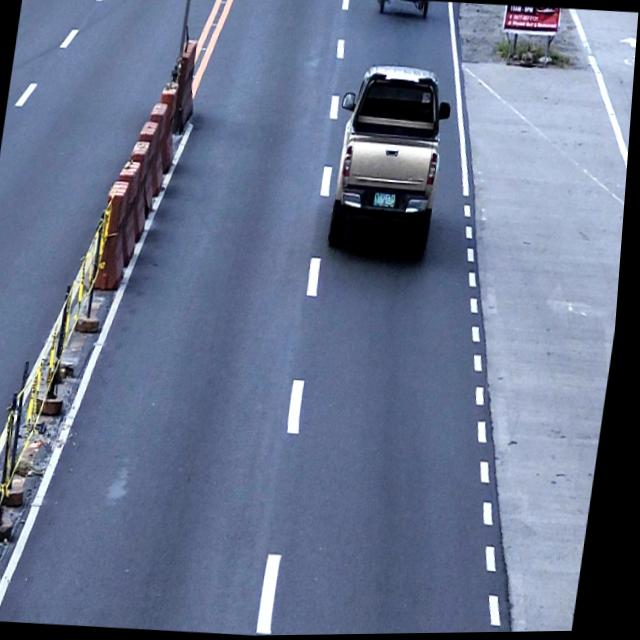Car: (324, 61, 458, 257)
License-Plate: (376, 193, 399, 209)
